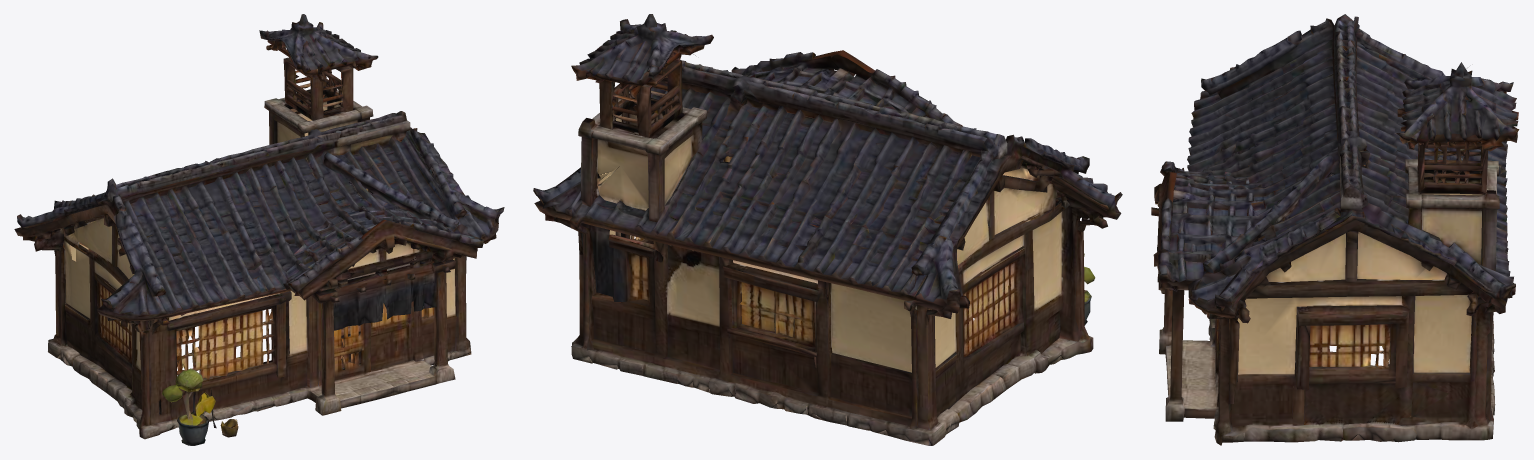
3 views of the same model, side by side, from view 1: azimuth 30°, elevation 25°; view 2: azimuth 150°, elevation 25°; view 3: azimuth 270°, elevation 25° (orthographic). The views are drawn at different scales.
Visible parts, largest first — view 1: compact__tower_1__native_mobile; view 2: compact__tower_1__native_mobile; view 3: compact__tower_1__native_mobile.
Part boxes in pixels (left/top/right/bottom): compact__tower_1__native_mobile: left=14, top=14, right=504, bottom=445; compact__tower_1__native_mobile: left=533, top=14, right=1122, bottom=445; compact__tower_1__native_mobile: left=1151, top=14, right=1519, bottom=445.
Size of the model in its own units: 1 by 0.6874 by 0.662.
1 material, 1 textured.
